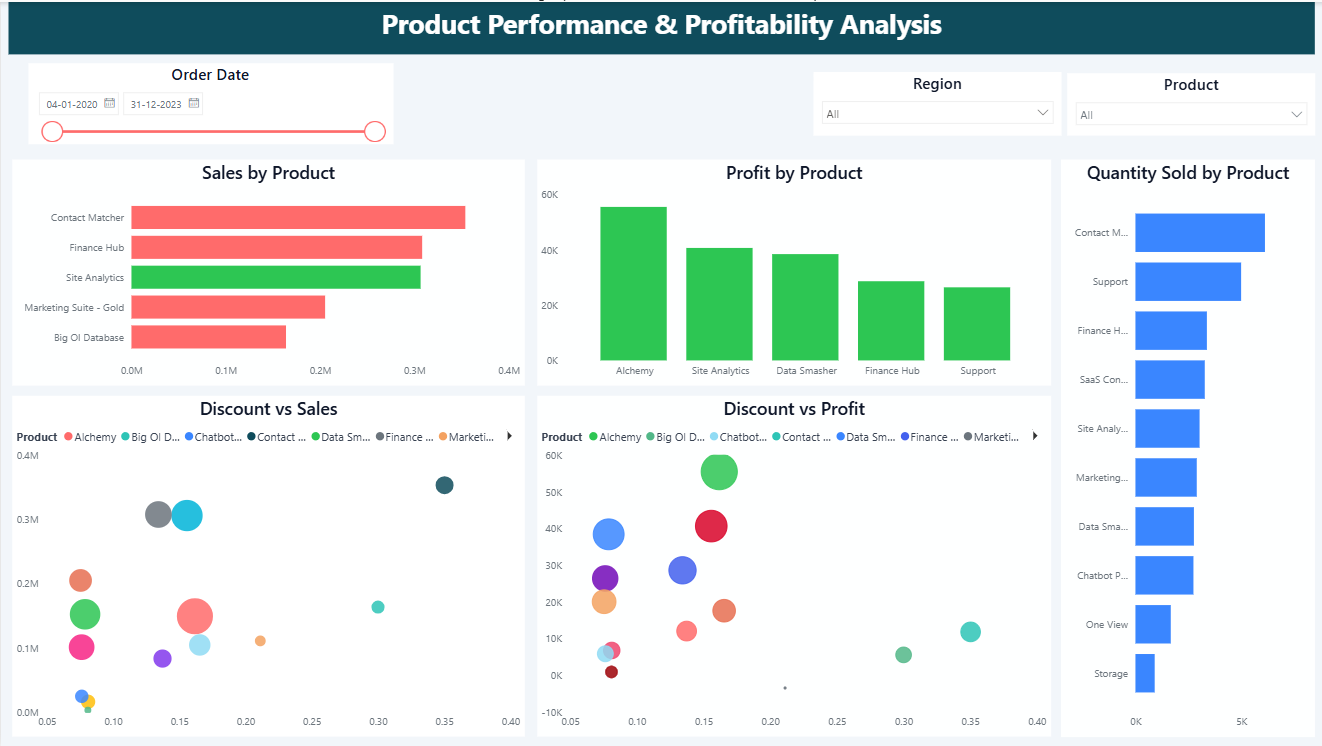

The dashboard page shown, as its layout file describes it:
{"tool":"powerbi","page":{"name":"Product & Profitability","canvas":[1280,720],"ordinal":3},"visuals":[{"type":"clusteredBarChart","title":"Sales by Product","fields":{"Category":["SaaS-Sales.Product"],"Y":["SaaS-Sales.Total Sales"]},"box":[8.6,64.8,362,294.7],"z":0},{"type":"clusteredColumnChart","title":" Profit by Product","fields":{"Category":["SaaS-Sales.Product"],"Y":["SaaS-Sales.Total Profit"]},"box":[379.1,64.8,541.7,291],"z":1000},{"type":"scatterChart","title":"Discount vs Profit","fields":{"X":["SaaS-Sales.Discount"],"Y":["SaaS-Sales.Total Profit"]},"box":[8.6,359.5,912.2,348.5],"z":2000},{"type":"textbox","box":[8.6,0,912.2,56.3],"z":3000},{"type":"barChart","title":"License vs Sales","fields":{"Category":["SaaS-Sales.License"],"Y":["SaaS-Sales.Total Sales"]},"box":[929.4,74.6,351,634.7],"z":4000},{"type":"slicer","title":"Region","fields":{"Values":["SaaS-Sales.Region","SaaS-Sales.Country"]},"box":[1101.2,10,172.5,65],"z":5000},{"type":"slicer","title":"Year","fields":{"Values":["SaaS-Sales.Order Date.Variation.Date Hierarchy.Year","SaaS-Sales.Order Date.Variation.Date Hierarchy.Month"]},"box":[929.4,9.8,172.4,64.8],"z":6000}]}

Visuals, with their boxes in screenshot pixels (x1, y1, x2, y2), scaled from the page's 1280x720 canvas onto the 1322x746 screenshot:
"Sales by Product" clusteredBarChart: x1=9, y1=67, x2=383, y2=372
" Profit by Product" clusteredColumnChart: x1=392, y1=67, x2=951, y2=369
"Discount vs Profit" scatterChart: x1=9, y1=372, x2=951, y2=734
textbox: x1=9, y1=0, x2=951, y2=58
"License vs Sales" barChart: x1=960, y1=77, x2=1321, y2=735
"Region" slicer: x1=1137, y1=10, x2=1315, y2=78
"Year" slicer: x1=960, y1=10, x2=1138, y2=77
